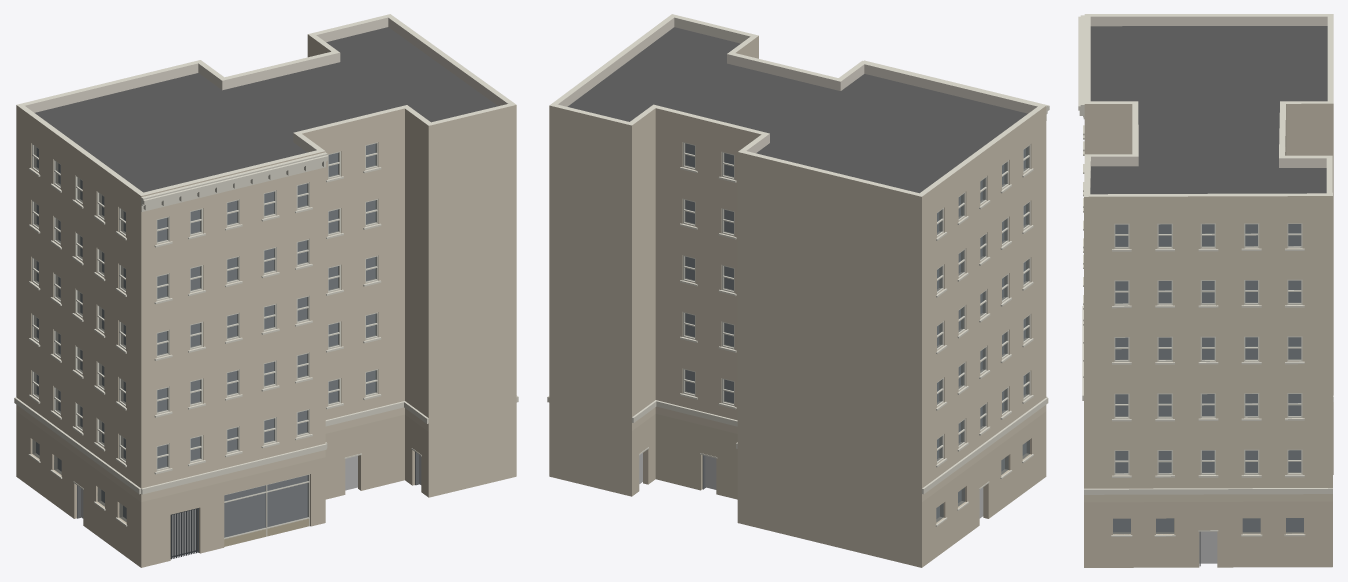
File: exterior.glb
3 renders of one model, left to right at view 1: azimuth 30°, elevation 25°; view 2: azimuth 150°, elevation 25°; view 3: azimuth 270°, elevation 25°, orthographic.
Parts seen in each view (by area): view 1: shell, roof, glazing, shadow-proxy, trim, frames, storefront; view 2: shell, roof, glazing, frames, trim, shadow-proxy; view 3: shell, roof, glazing, shadow-proxy, trim, frames.
Part boxes in pixels (x1=…): shell: x1=16, y1=14, x2=516, y2=567; roof: x1=35, y1=27, x2=497, y2=192; glazing: x1=32, y1=143, x2=376, y2=537; shadow-proxy: x1=36, y1=144, x2=421, y2=555; trim: x1=14, y1=152, x2=518, y2=526; frames: x1=32, y1=142, x2=378, y2=471; storefront: x1=73, y1=448, x2=421, y2=559; shell: x1=549, y1=14, x2=1046, y2=567; roof: x1=567, y1=27, x2=1027, y2=193; glazing: x1=684, y1=143, x2=1029, y2=522; frames: x1=683, y1=142, x2=1030, y2=463; trim: x1=547, y1=60, x2=1049, y2=526; shadow-proxy: x1=639, y1=144, x2=1026, y2=518; shell: x1=1084, y1=14, x2=1333, y2=567; roof: x1=1090, y1=26, x2=1327, y2=194; glazing: x1=1113, y1=224, x2=1303, y2=534; shadow-proxy: x1=1113, y1=224, x2=1303, y2=563; trim: x1=1078, y1=15, x2=1333, y2=536; frames: x1=1114, y1=223, x2=1302, y2=475.
Bounding box in the file's own units: 24.14 × 22.62 × 14.12.
